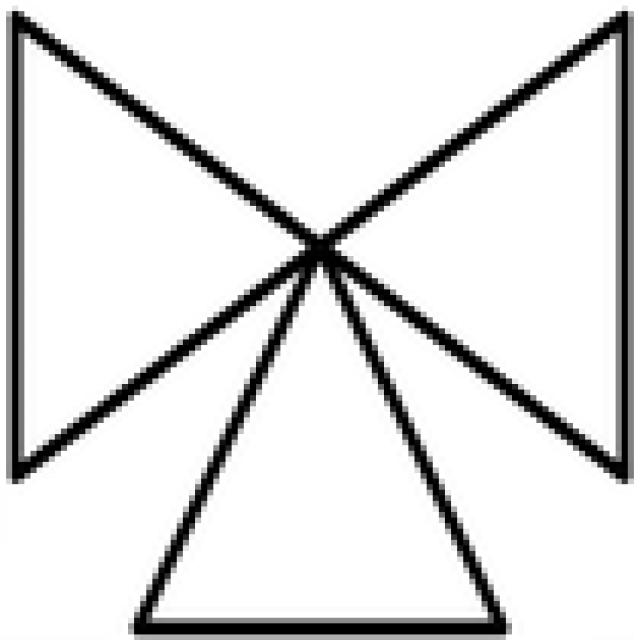3-way Valve: (12, 11, 622, 629)
